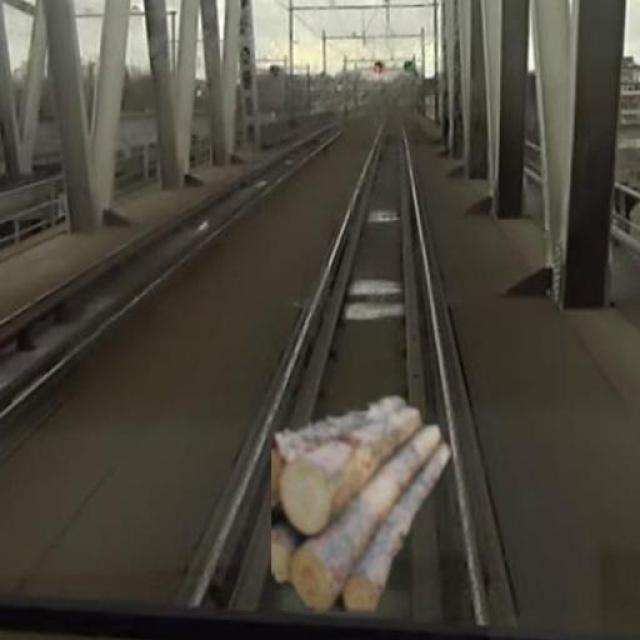Branches: (263, 395, 454, 612)
